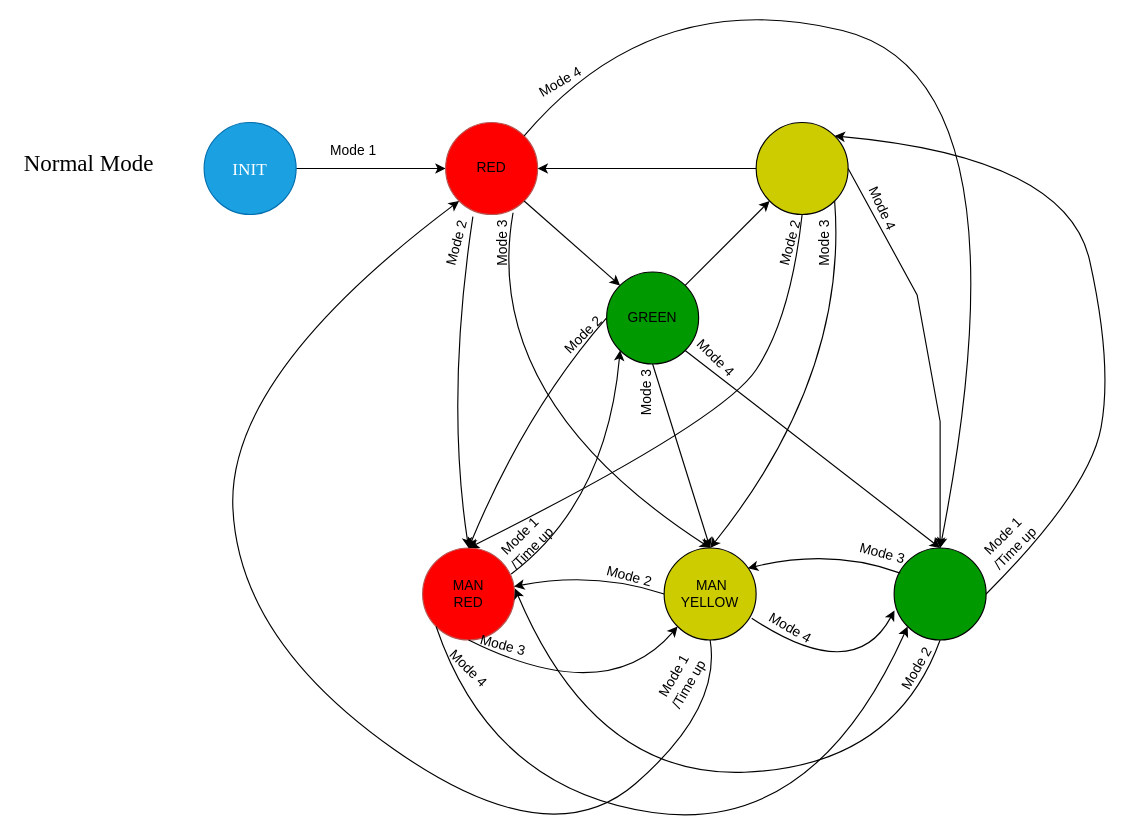
This 1125x836 diagram has some shape labels left out. Each missing label, with the centre of its shape:
"MAN GREEN" goes at point (939, 593).
"YELLOW" goes at point (801, 167).
